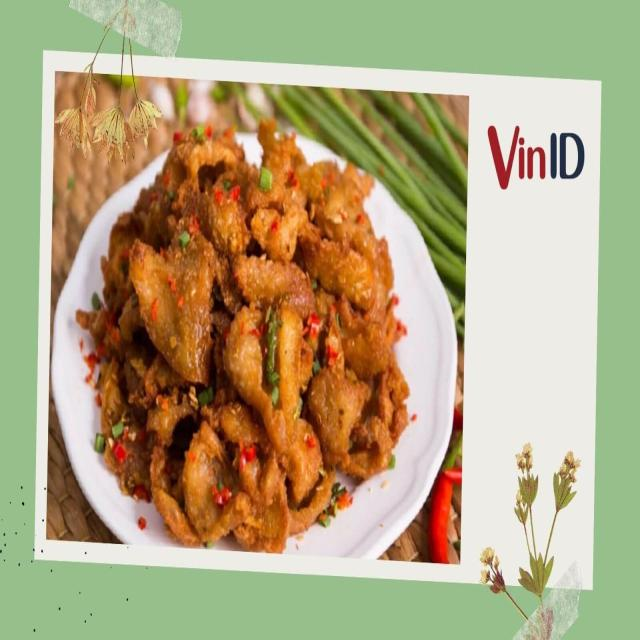ga kho: (77, 120, 415, 553)
